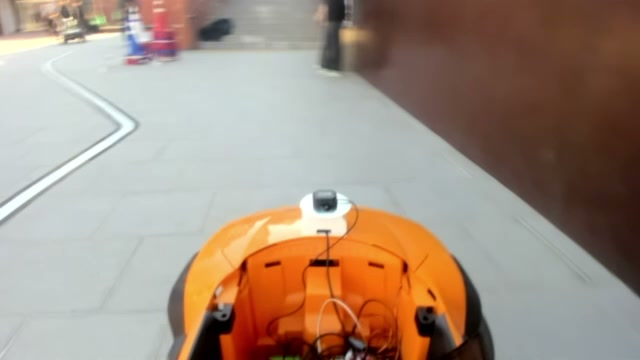Lane: (0, 51, 138, 226)
